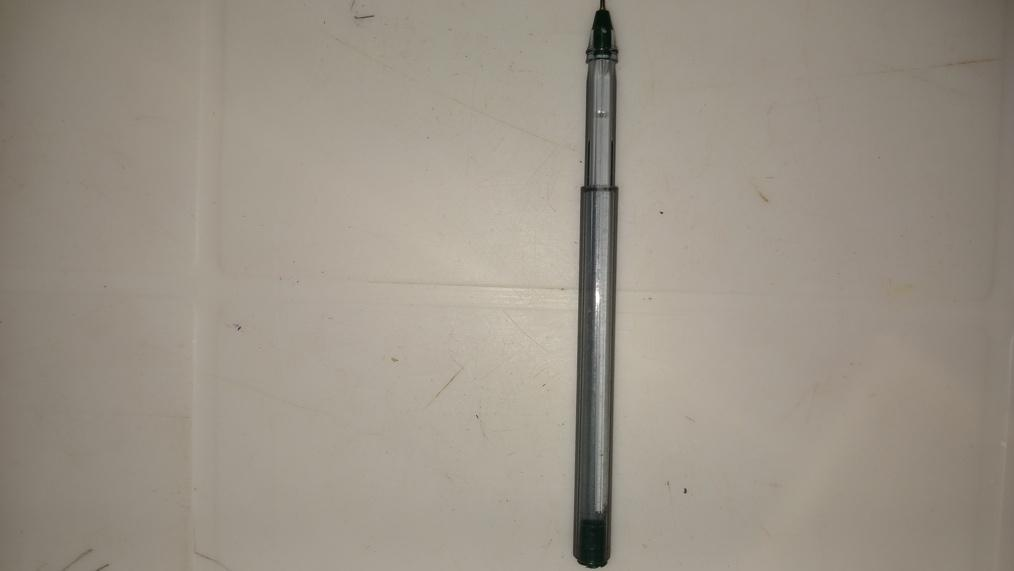pen: (574, 2, 617, 566)
